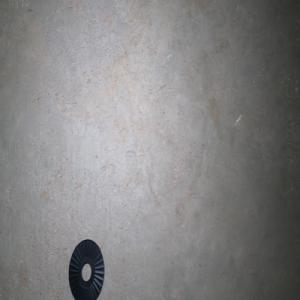Washer: (68, 239, 104, 300)
